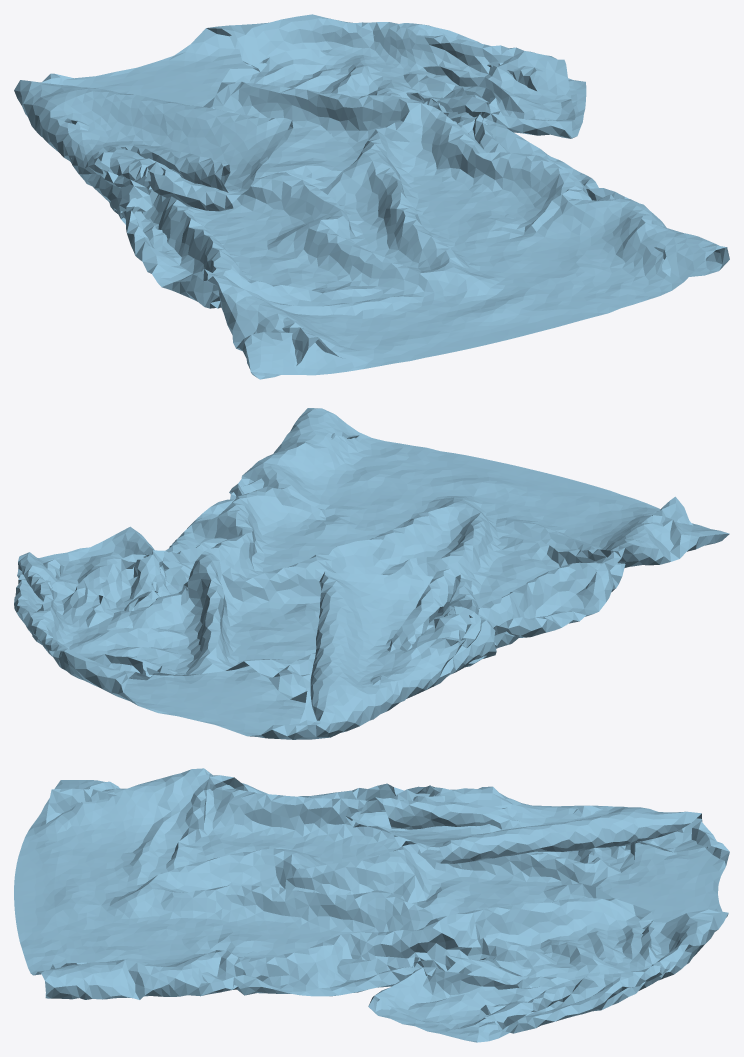
File: frame_00.glb
The picture shows the model from 3 angles, top to bottom: view 1: azimuth 30°, elevation 25°; view 2: azimuth 150°, elevation 25°; view 3: azimuth 270°, elevation 25°; orthographic projection. The views are drawn at different scales.
Visible parts, largest first — view 1: frame_00.obj; view 2: frame_00.obj; view 3: frame_00.obj.
Boxes of the visible parts, x1,y1,x2,y2 form: frame_00.obj: [14, 14, 729, 379]; frame_00.obj: [14, 408, 729, 739]; frame_00.obj: [14, 768, 729, 1042].
Size of the model in its own units: 1.43 by 0.1567 by 1.69.
